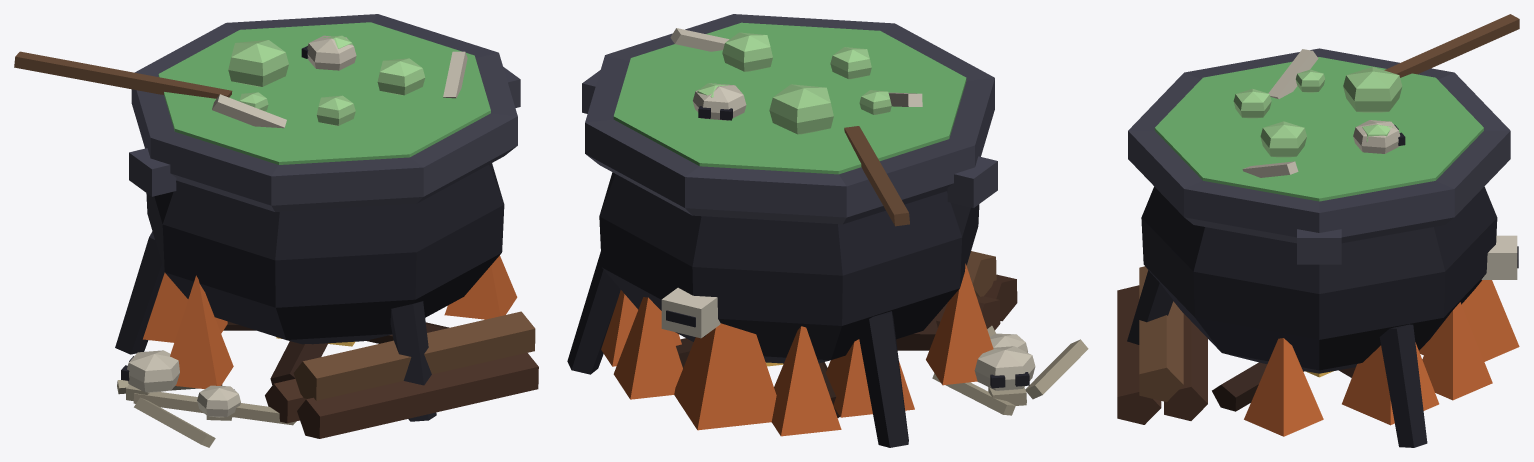
The model's file is Decor_VampireCrypt_Cauldron.fbx.
3 views of the same model, side by side, from view 1: azimuth 30°, elevation 25°; view 2: azimuth 150°, elevation 25°; view 3: azimuth 270°, elevation 25° (orthographic). The views are drawn at different scales.
Visible parts, largest first — view 1: Cauldron_Body; view 2: Cauldron_Body; view 3: Cauldron_Body.
Boxes of the visible parts, x1,y1,x2,y2 form: Cauldron_Body: (14,14,538,447); Cauldron_Body: (567,14,1088,447); Cauldron_Body: (1117,14,1519,447).
Size of the model in its own units: 10.47 by 7.42 by 9.45.
